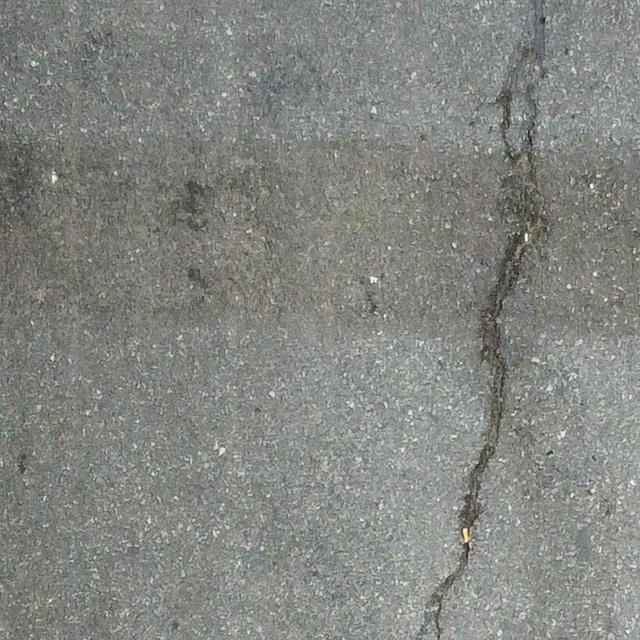LongitudinalCrack: (416, 1, 551, 636)
